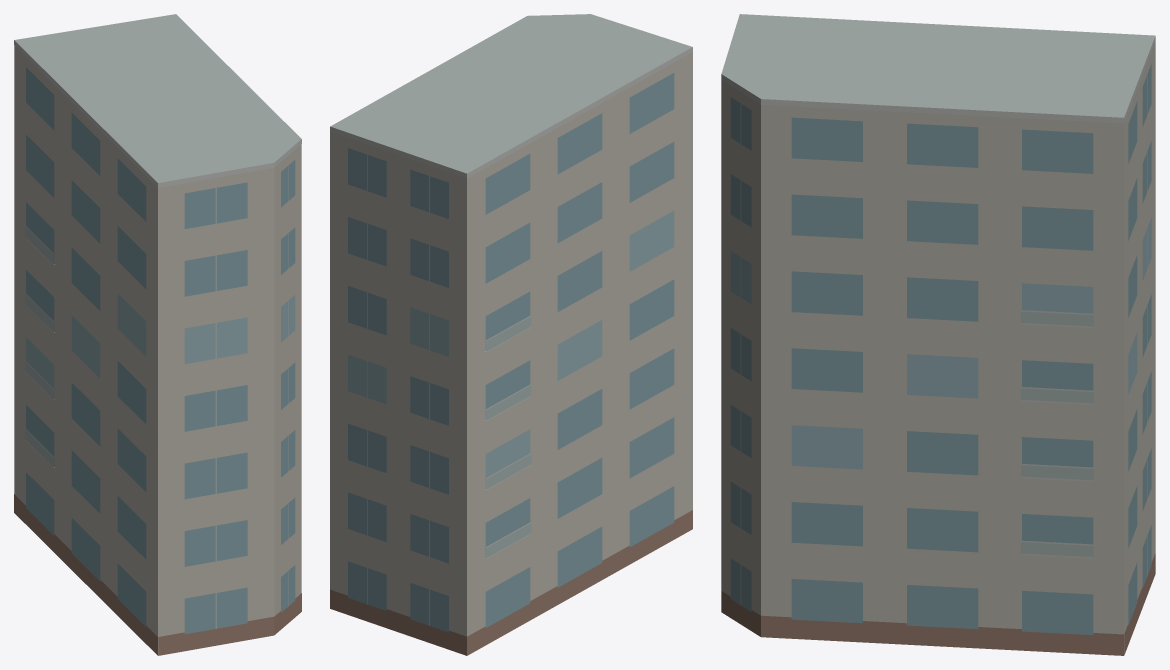
The model's file is survey-upis-32654988.glb.
The picture shows the model from 3 angles, left to right: view 1: azimuth 30°, elevation 25°; view 2: azimuth 150°, elevation 25°; view 3: azimuth 270°, elevation 25°; orthographic projection. The views are drawn at different scales.
Visible parts, largest first — view 1: survey-upis-32654988.tmp; view 2: survey-upis-32654988.tmp; view 3: survey-upis-32654988.tmp.
Part boxes in pixels (bbox=[...]): survey-upis-32654988.tmp: bbox=[14, 14, 301, 655]; survey-upis-32654988.tmp: bbox=[330, 14, 692, 655]; survey-upis-32654988.tmp: bbox=[721, 14, 1155, 655].
Bounding box in the file's own units: 9.6 × 23.2 × 16.98.
